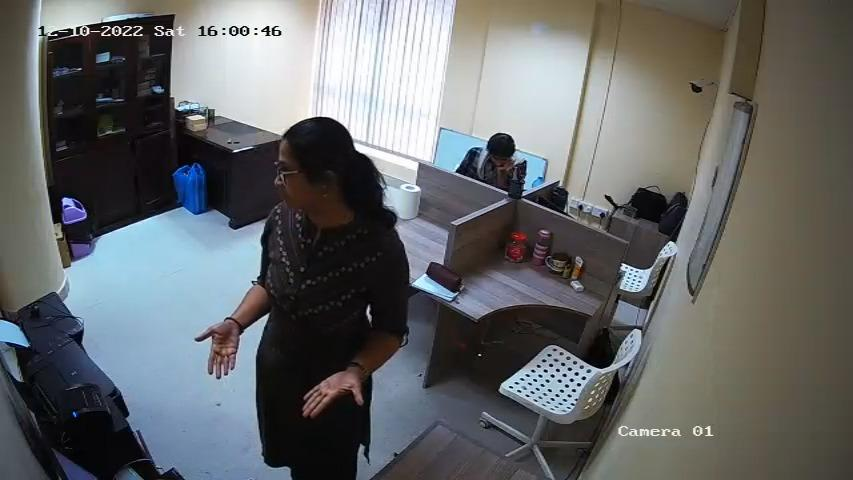no_gloves: (299, 366, 367, 422), (193, 319, 243, 378)
